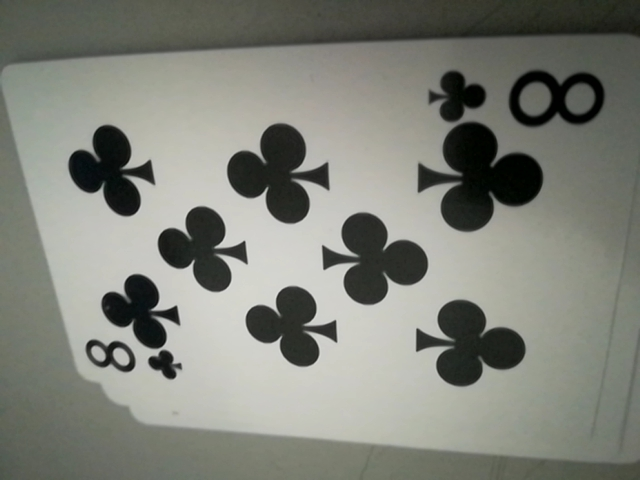mh 8: (424, 57, 605, 133), (77, 333, 179, 386)
